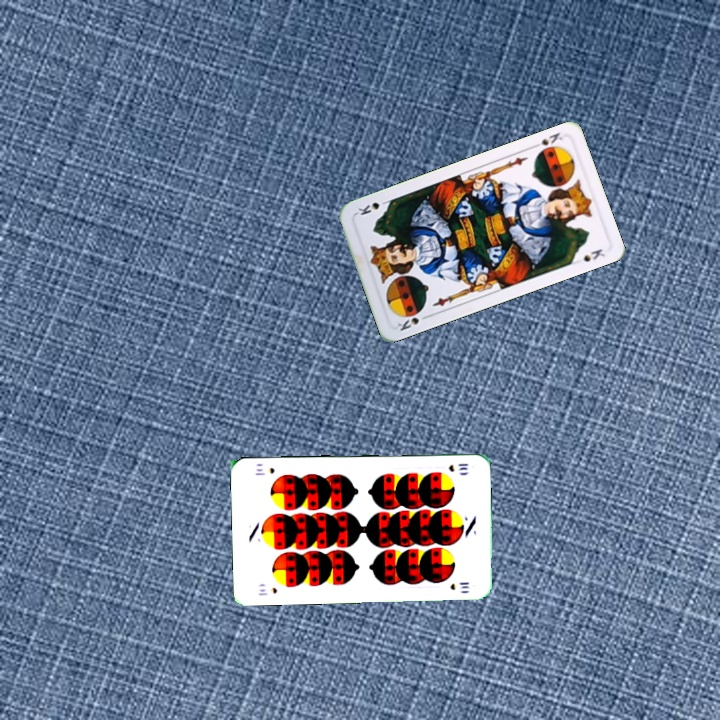S10: (254, 583, 279, 598), (445, 460, 471, 474)
SK: (393, 305, 432, 334), (528, 128, 565, 151)
